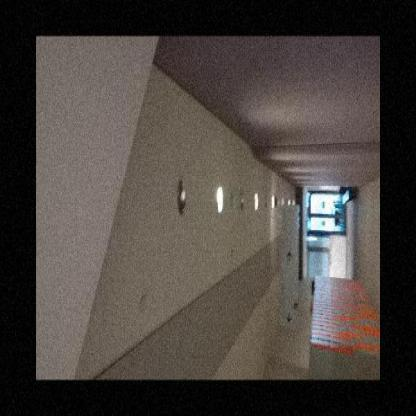light_off: (167, 171, 194, 221), (234, 183, 247, 219)
